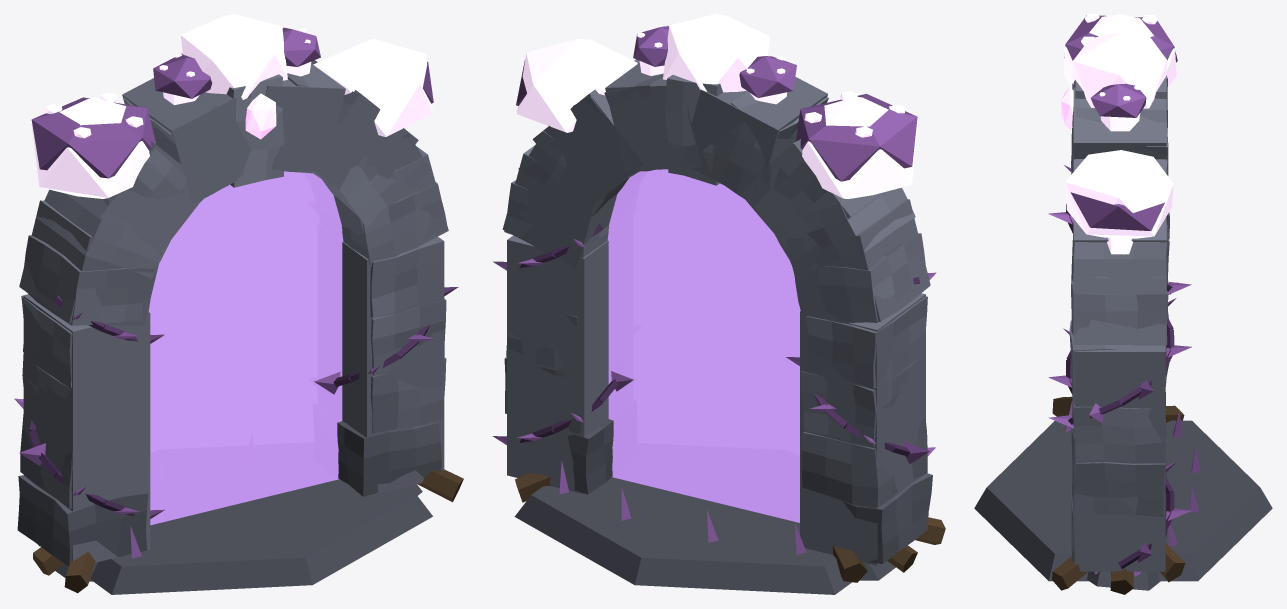
The model's file is portal_mushroom.glb.
3 views of the same model, side by side, from view 1: azimuth 30°, elevation 25°; view 2: azimuth 150°, elevation 25°; view 3: azimuth 270°, elevation 25° (orthographic). The views are drawn at different scales.
Parts seen in each view (by area): view 1: Far_Body, Surface_Far, Surface_Near, Arch, Pillar_R, Pillar_L, Motif_MushroomCaps, Motif_Vines, Motif_Roots, Motif_KeystoneGem; view 2: Far_Body, Surface_Far, Surface_Near, Arch, Pillar_L, Motif_MushroomCaps, Pillar_R, Motif_Vines, Motif_Roots, Base; view 3: Far_Body, Pillar_R, Arch, Motif_MushroomCaps, Motif_Vines, Motif_Roots, Base, Motif_KeystoneGem.
Boxes of the visible parts, left/top/right/bottom form: Far_Body: left=19, top=14, right=448, bottom=594; Surface_Far: left=149, top=171, right=343, bottom=524; Surface_Near: left=148, top=172, right=342, bottom=524; Arch: left=24, top=73, right=447, bottom=325; Pillar_R: left=337, top=237, right=446, bottom=496; Pillar_L: left=17, top=294, right=147, bottom=566; Motif_MushroomCaps: left=31, top=27, right=433, bottom=178; Motif_Vines: left=14, top=287, right=458, bottom=518; Motif_Roots: left=33, top=469, right=463, bottom=593; Motif_KeystoneGem: left=245, top=93, right=276, bottom=139; Far_Body: left=502, top=14, right=930, bottom=594; Surface_Far: left=607, top=169, right=800, bottom=522; Surface_Near: left=608, top=169, right=799, bottom=522; Arch: left=504, top=60, right=929, bottom=322; Pillar_L: left=800, top=296, right=932, bottom=563; Motif_MushroomCaps: left=516, top=25, right=917, bottom=181; Pillar_R: left=504, top=314, right=613, bottom=494; Motif_Vines: left=492, top=224, right=936, bottom=463; Motif_Roots: left=515, top=473, right=945, bottom=582; Base: left=559, top=460, right=895, bottom=580; Far_Body: left=974, top=14, right=1272, bottom=581; Pillar_R: left=1069, top=320, right=1167, bottom=561; Arch: left=1071, top=76, right=1168, bottom=345; Motif_MushroomCaps: left=1064, top=14, right=1177, bottom=254; Motif_Vines: left=1048, top=165, right=1191, bottom=568; Motif_Roots: left=1052, top=396, right=1185, bottom=594; Base: left=1065, top=401, right=1200, bottom=590; Motif_KeystoneGem: left=1061, top=87, right=1073, bottom=129.
Size of the model in its own units: 2.73 by 3.2 by 1.8.
